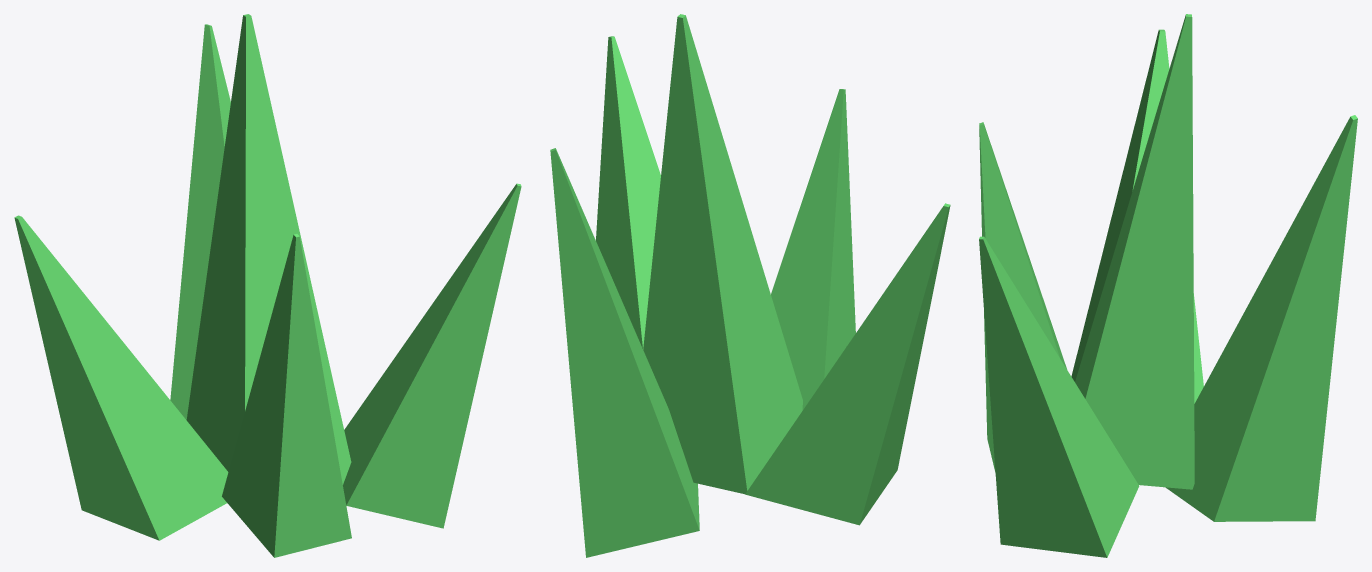
The model's file is stac grass.fbx.
3 renders of one model, left to right at view 1: azimuth 30°, elevation 25°; view 2: azimuth 150°, elevation 25°; view 3: azimuth 270°, elevation 25°, orthographic. The views are drawn at different scales.
Parts seen in each view (by area): view 1: Cube; view 2: Cube; view 3: Cube.
Part boxes in pixels (bbox=[...]): Cube: bbox=[14, 14, 521, 557]; Cube: bbox=[550, 14, 950, 557]; Cube: bbox=[979, 14, 1357, 557].
Bounding box in the file's own units: 346 × 384 × 269.
